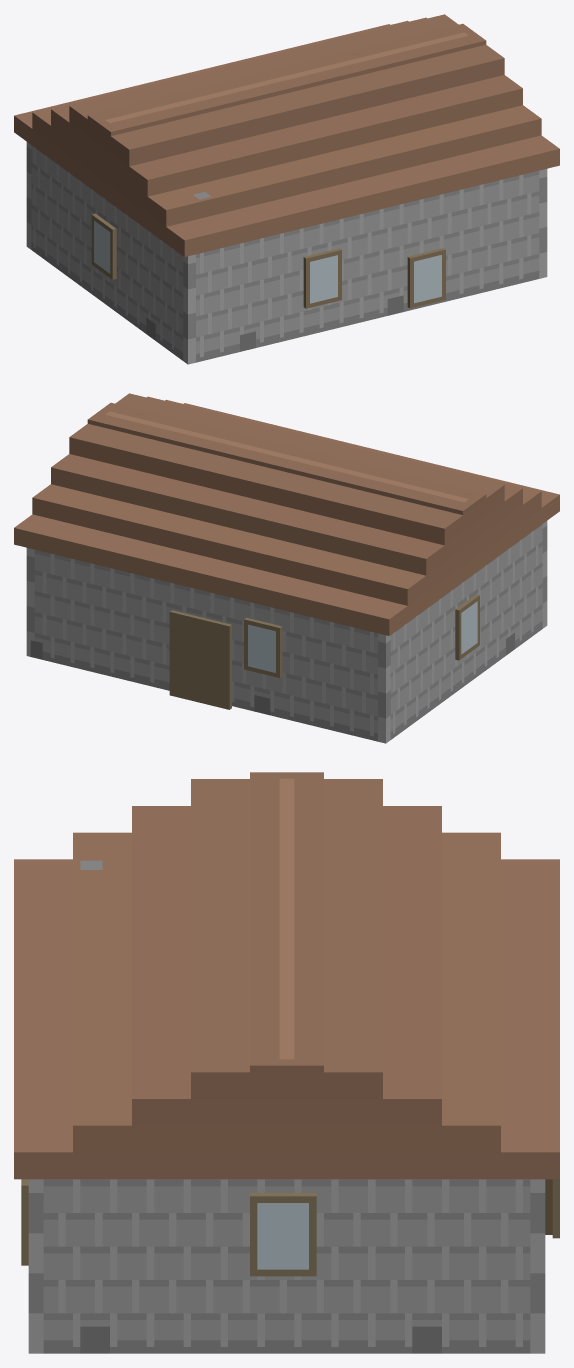
File: carniceria_03.glb
The picture shows the model from 3 angles, top to bottom: view 1: azimuth 30°, elevation 25°; view 2: azimuth 150°, elevation 25°; view 3: azimuth 270°, elevation 25°; orthographic projection. The views are drawn at different scales.
Parts seen in each view (by area): view 1: carniceria_03; view 2: carniceria_03; view 3: carniceria_03.
Boxes of the visible parts, bbox=[...] form: carniceria_03: bbox=[14, 14, 559, 364]; carniceria_03: bbox=[14, 393, 559, 743]; carniceria_03: bbox=[14, 772, 559, 1353].
Size of the model in its own units: 9.4 by 4.4 by 7.4.
